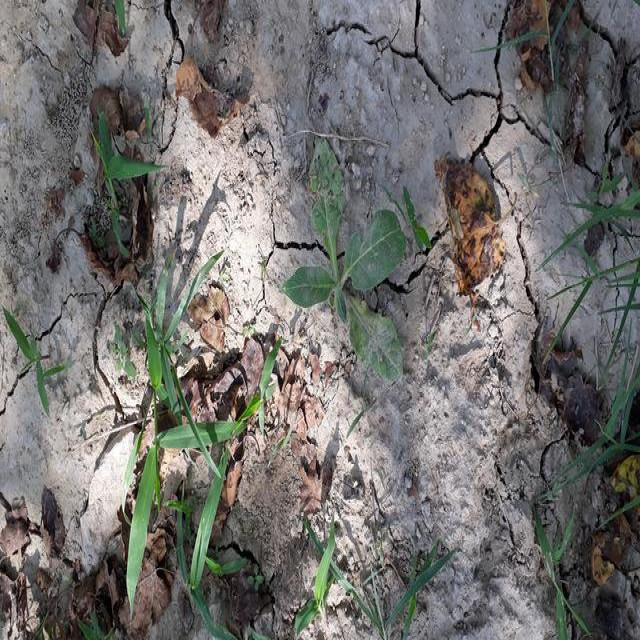crop: (286, 153, 411, 390)
